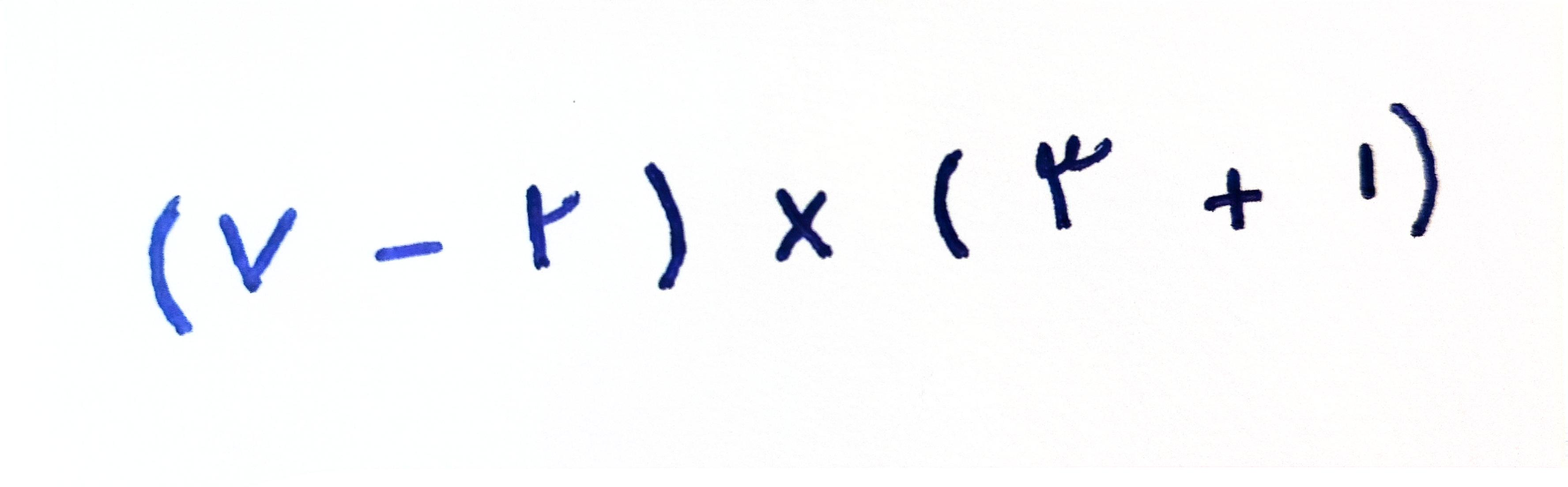character: (1034, 131, 1114, 233), (218, 206, 298, 295), (147, 194, 194, 335), (1390, 104, 1439, 236), (643, 159, 690, 290), (523, 179, 583, 273), (772, 186, 833, 261), (931, 146, 970, 263), (1203, 164, 1263, 233), (374, 239, 446, 264), (1357, 139, 1377, 203)
